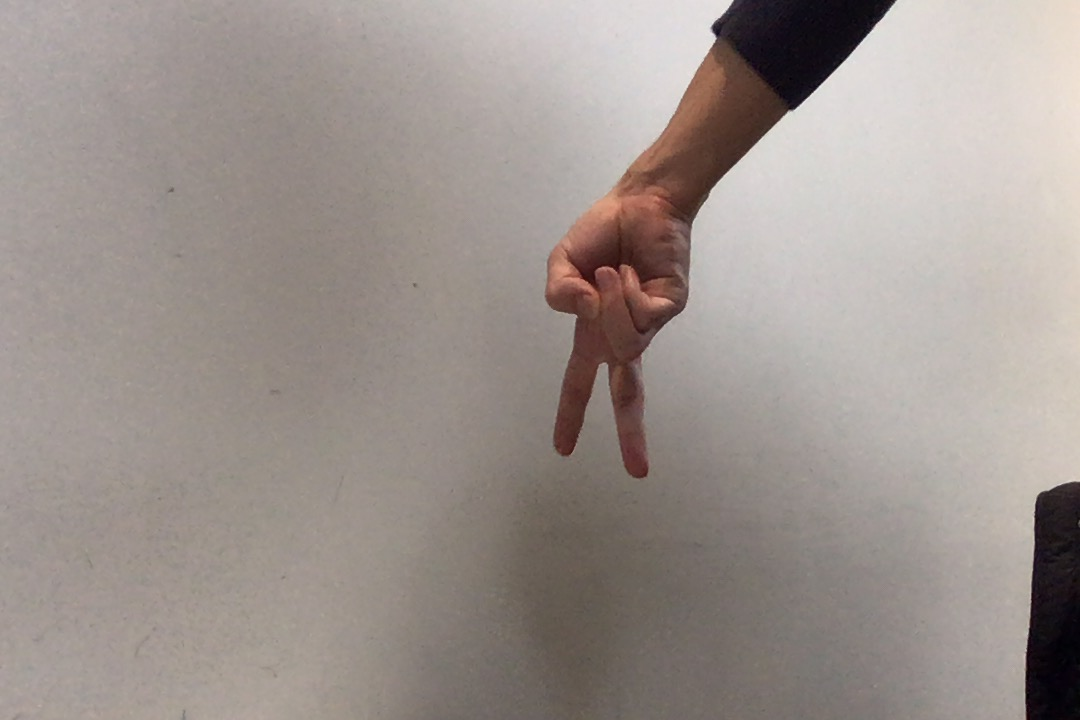peacesign: (536, 191, 694, 487)
